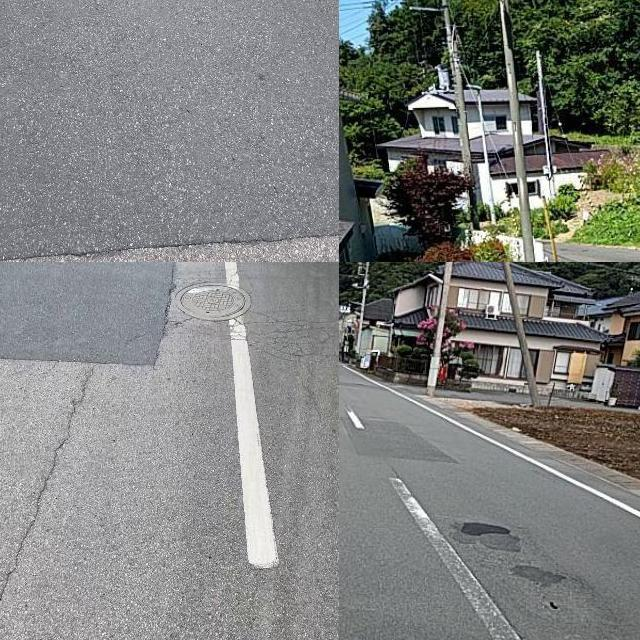Memanjang: (0, 362, 107, 627)
Sambungan: (0, 0, 339, 260), (0, 262, 177, 367), (343, 418, 457, 461)
